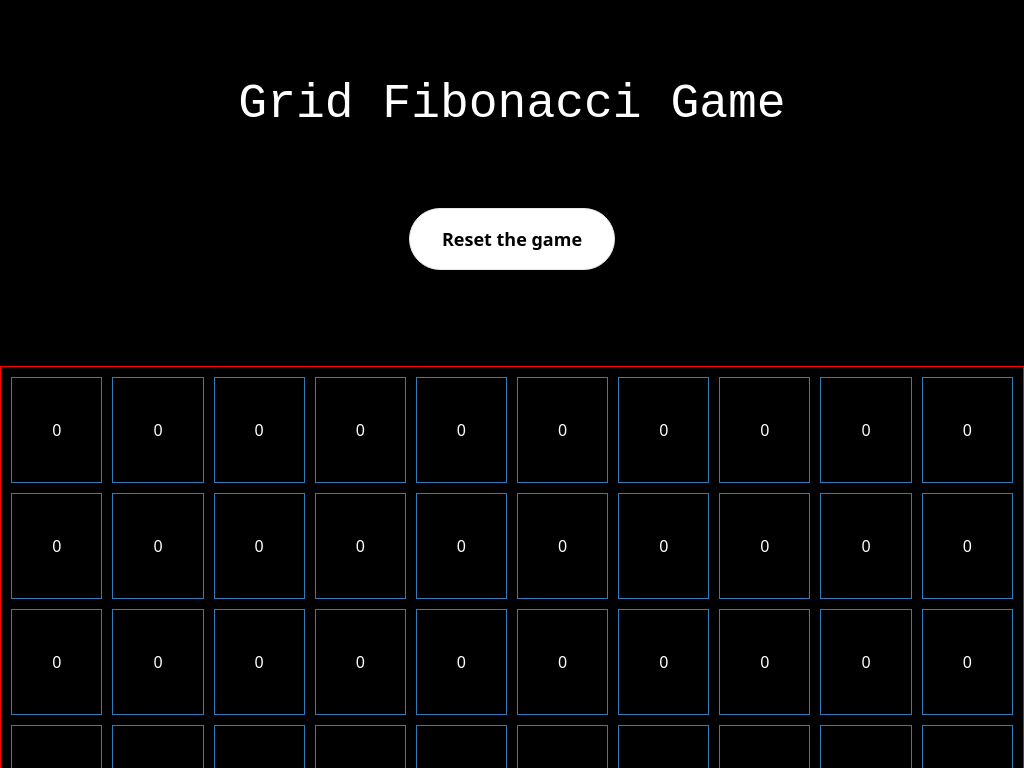
Test case: Click tests › click on first cell and expect to be 1 in cell
Click the cell with test id "cell-0-0".
click(57, 430)  # box [11,377,102,483]
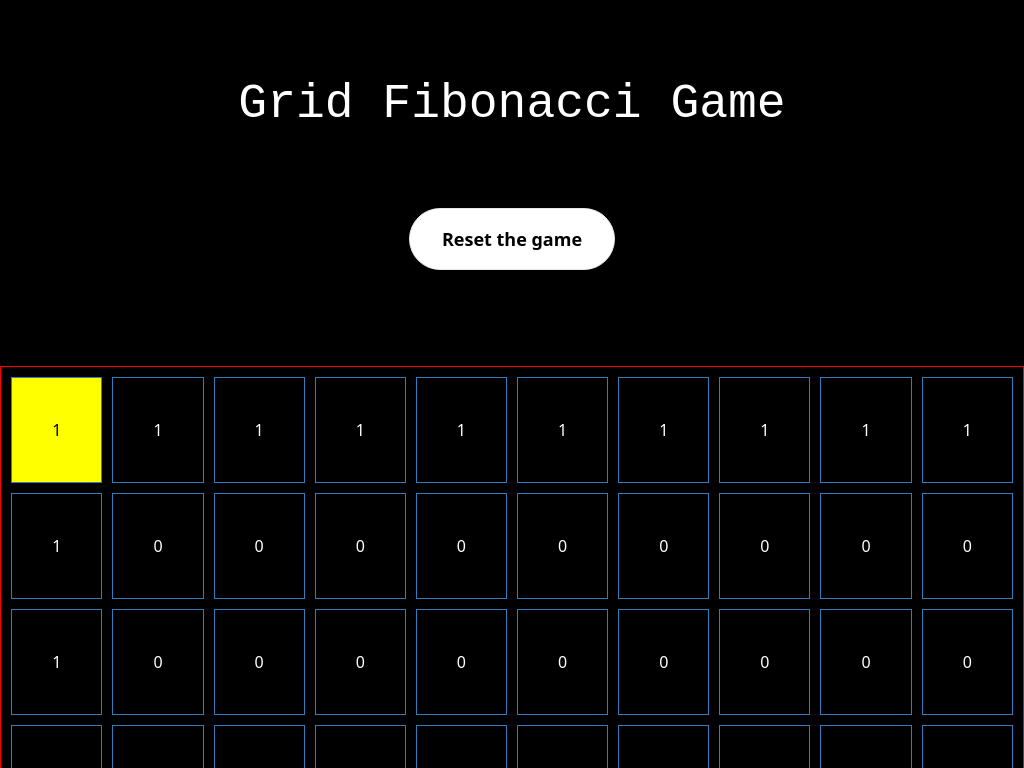
Now the cell with test id "cell-0-0" reads "1", box [52,419,61,441]
